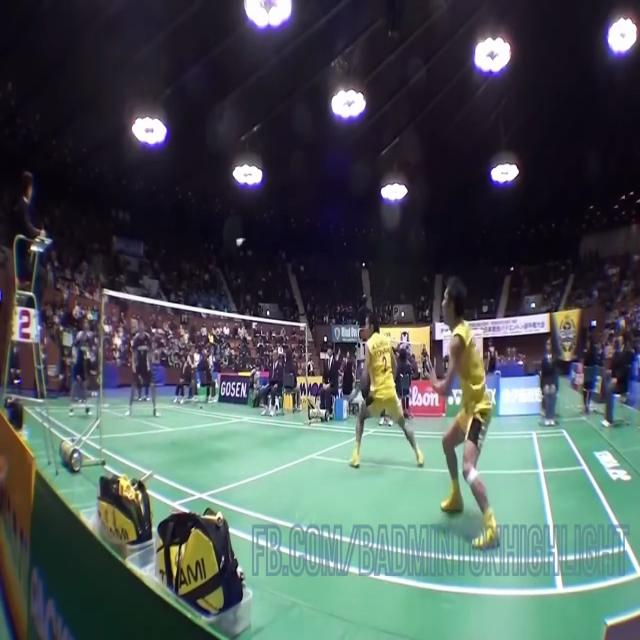shuttlecock: (236, 238, 245, 246)
